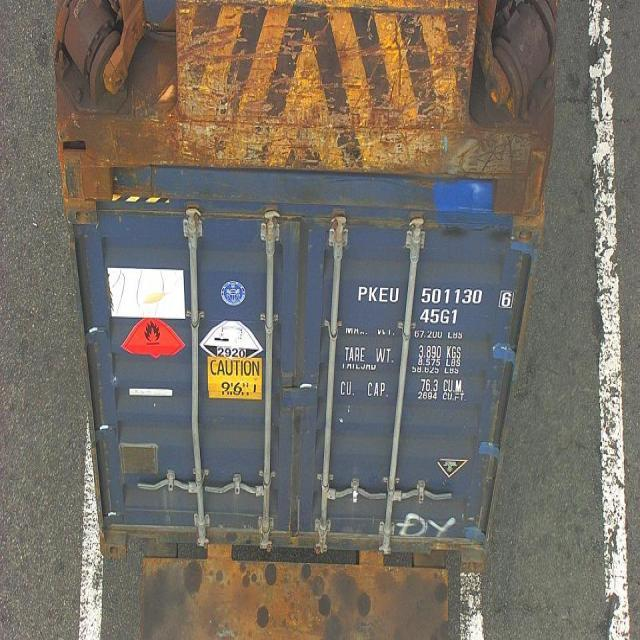ISO: (422, 309, 458, 325)
container_number: (359, 288, 498, 306)
